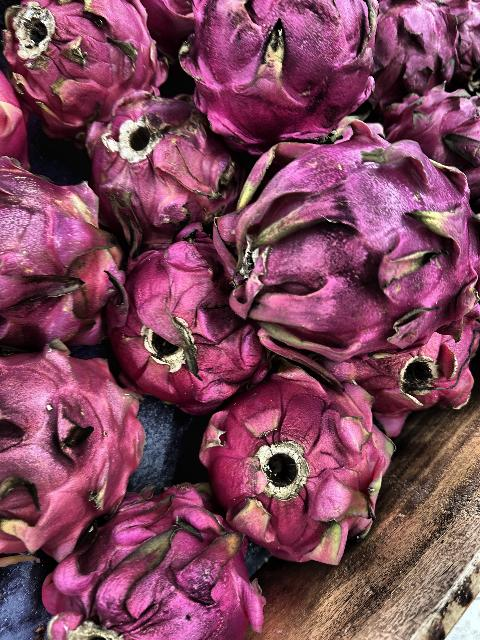buah-naga-matang: (232, 126, 478, 340), (193, 388, 388, 548), (56, 490, 256, 640), (0, 342, 148, 544), (175, 0, 367, 136), (96, 240, 254, 398), (0, 152, 118, 340), (86, 104, 244, 232), (3, 0, 170, 114), (384, 78, 480, 190), (371, 0, 457, 94)
